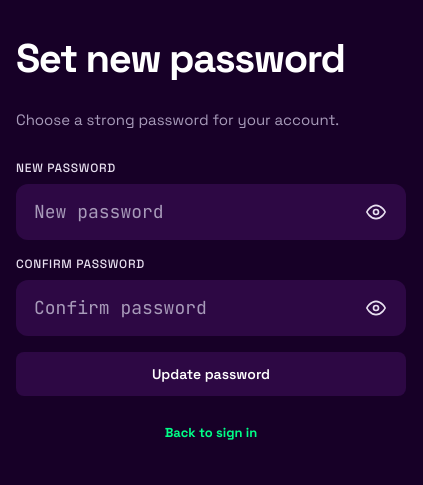
Test case: ResetPasswordScreen › shows API error on reset failure
The width and height of the screenshot is (423, 485).
In the password field with placeholder "New password": (211, 212) x1=16 y1=184 x2=406 y2=240, type "newpass1"
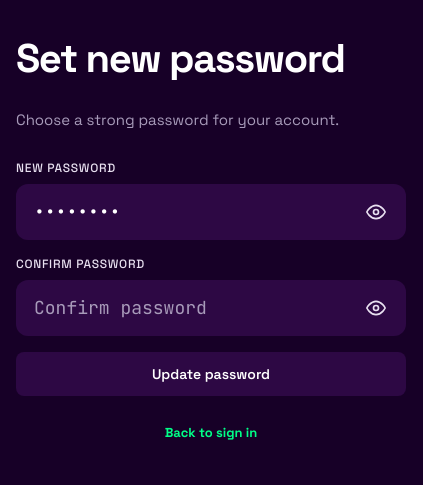
In the password field with placeholder "Confirm password": (211, 308) x1=16 y1=280 x2=406 y2=336, type "newpass1"
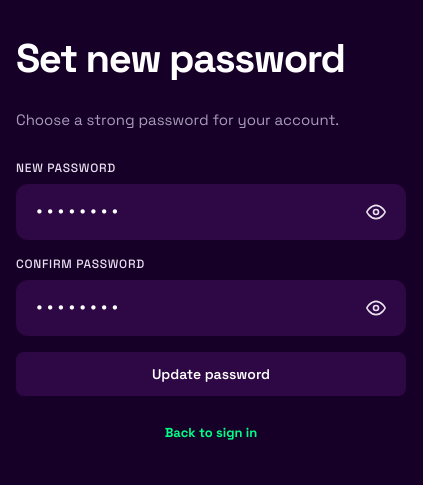
Click the button "Update password": click(211, 374) x1=16 y1=352 x2=406 y2=396
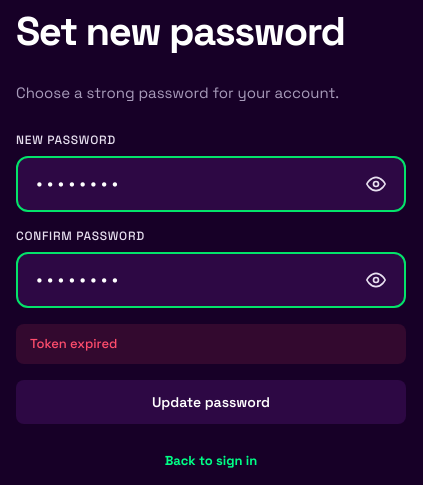
Check: the text "Token expired" is shown, box x1=16 y1=324 x2=406 y2=364
